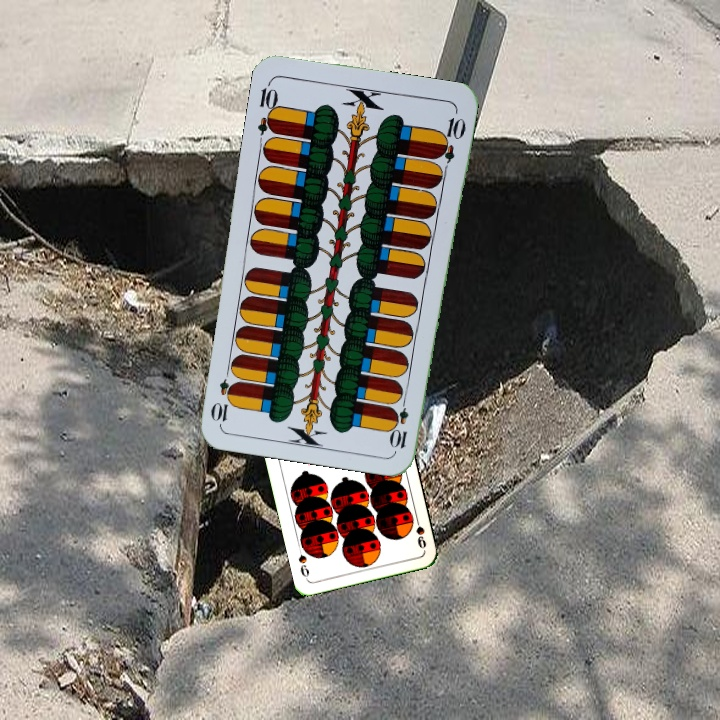E10: (253, 78, 282, 137), (389, 392, 412, 451)
S9: (411, 512, 429, 551)
